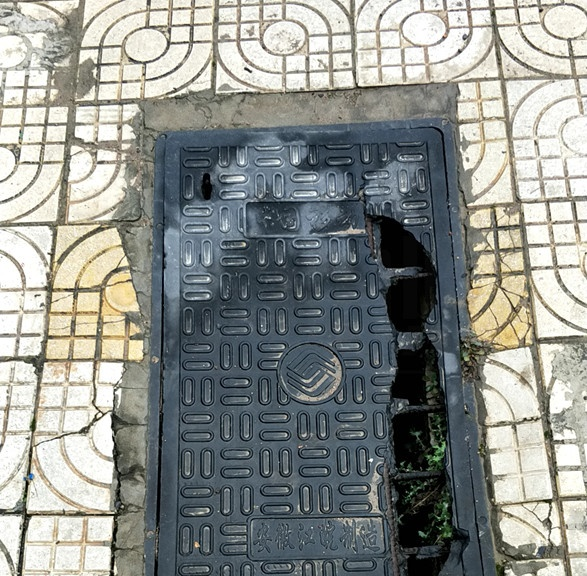broke: (145, 116, 499, 576)
